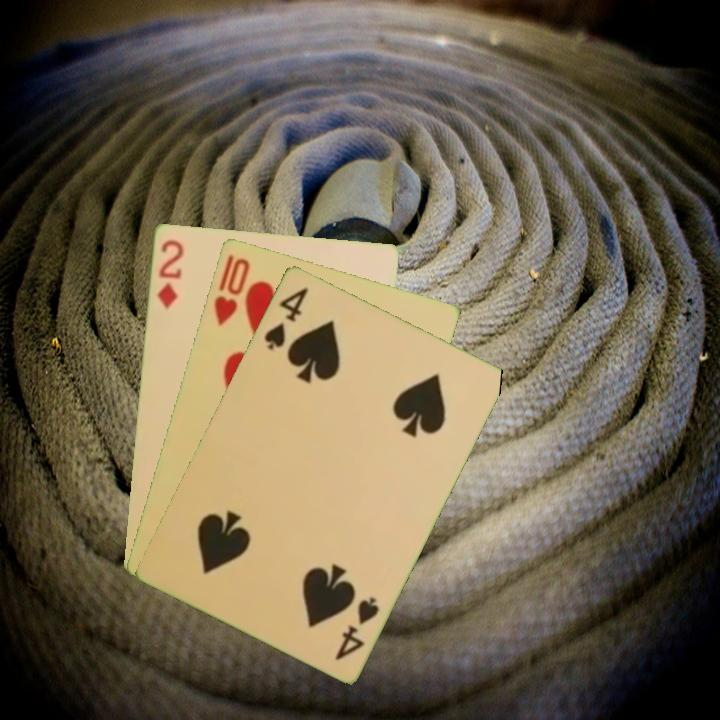10h: (210, 250, 253, 328)
2d: (153, 235, 186, 312)
4s: (331, 592, 382, 663), (260, 283, 311, 353)
